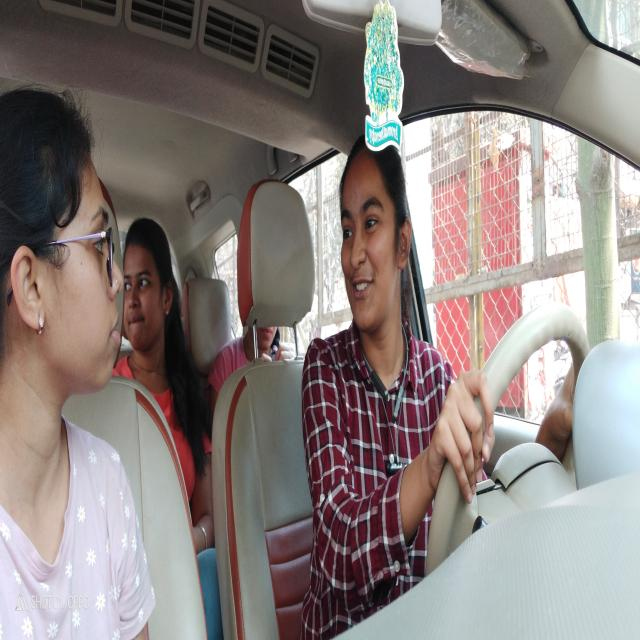LeftRight: (340, 128, 412, 341), (349, 269, 377, 302)
person: (3, 87, 125, 400), (125, 215, 176, 368), (256, 318, 282, 360)
